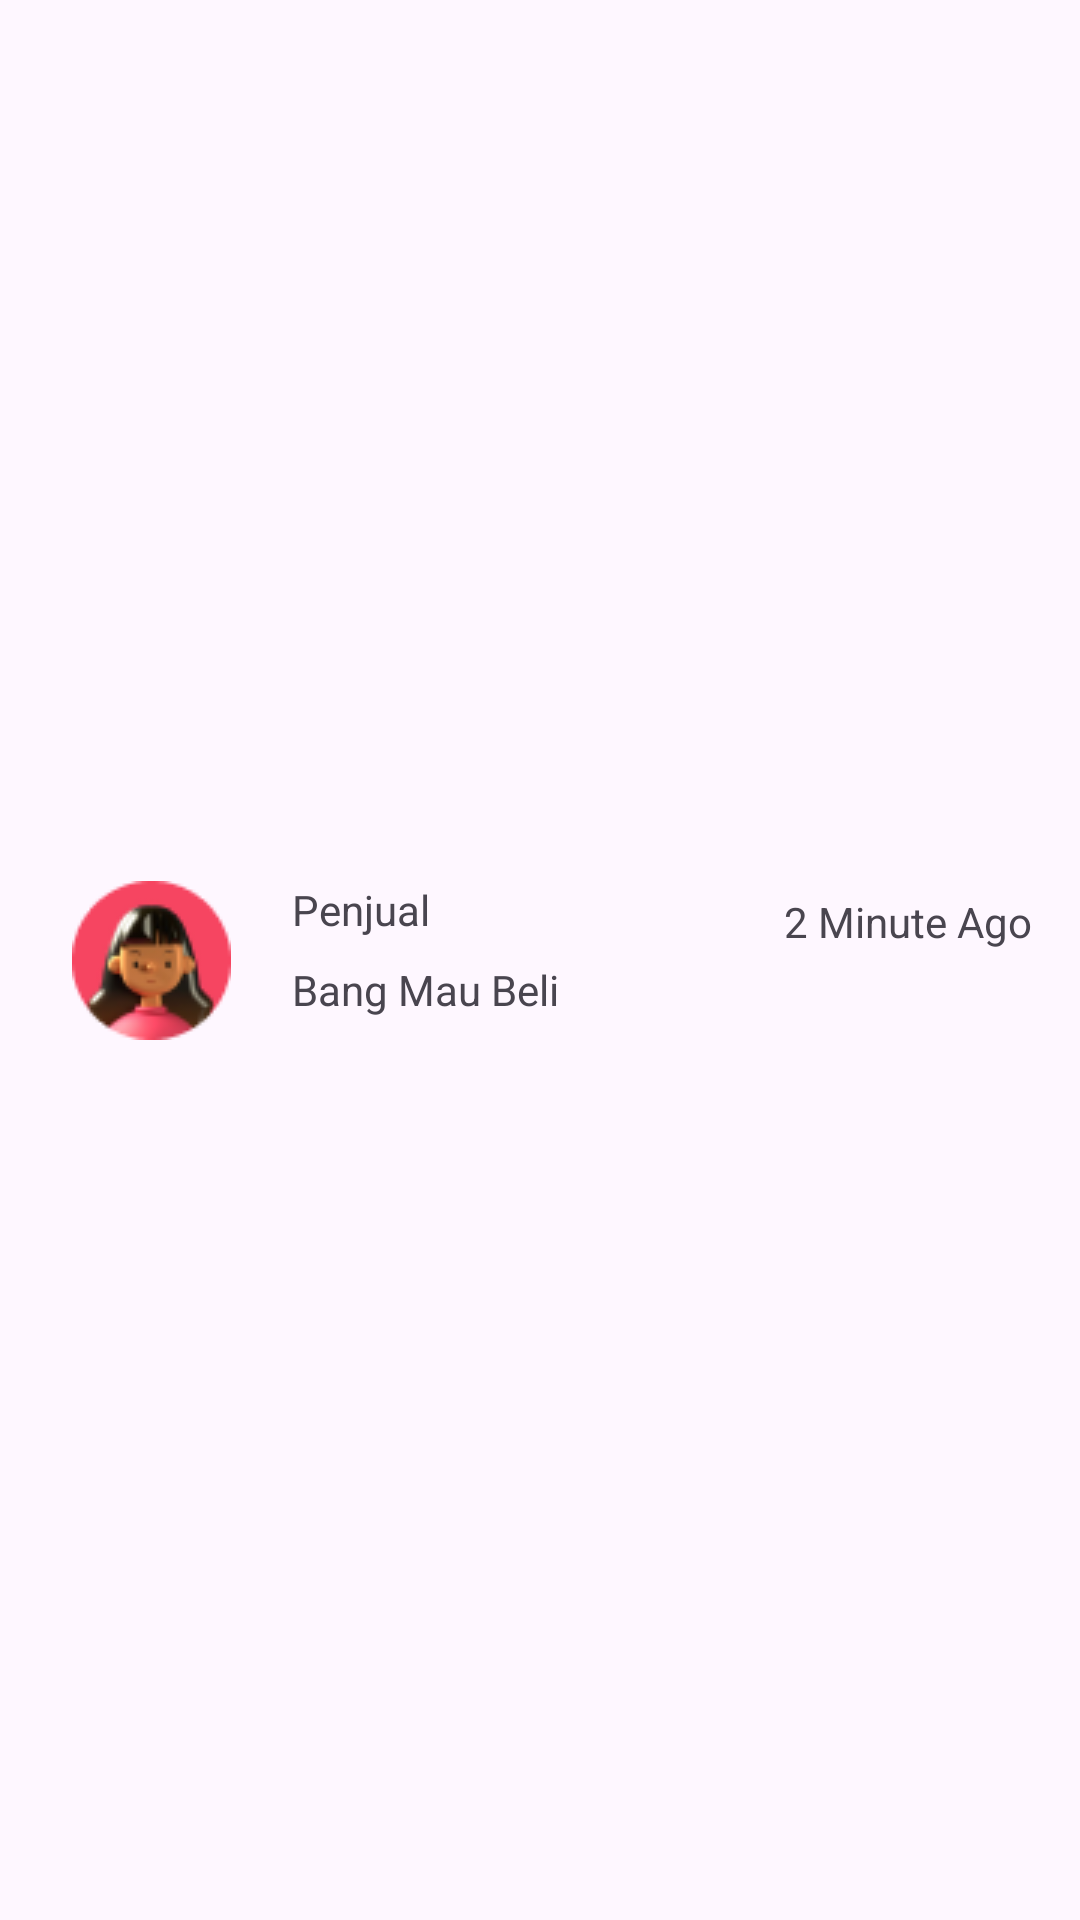

Icons on this 1080 × 1920 Android screen, each with the point to tap as [x,y]:
user: [151,960]
